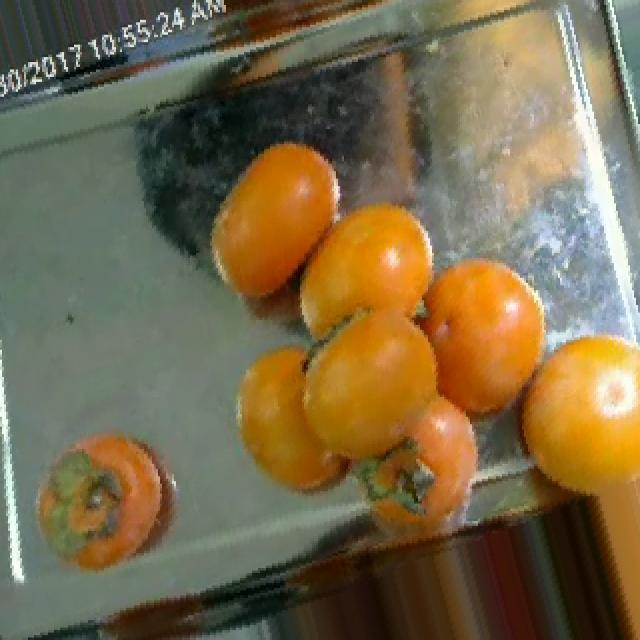Fruit: (188, 117, 358, 330), (218, 322, 388, 524), (20, 414, 202, 596)
